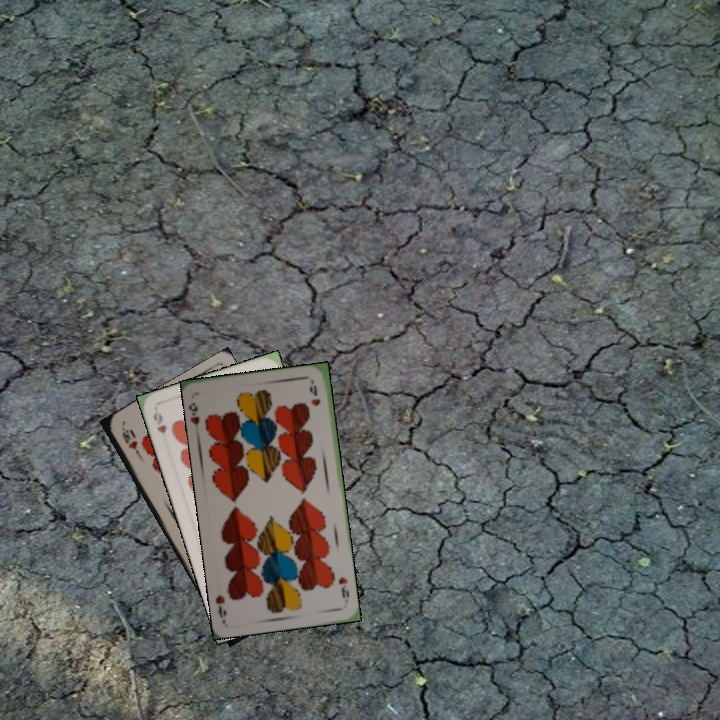H10: (118, 424, 145, 461)
H9: (149, 408, 169, 436), (334, 573, 352, 600), (186, 399, 202, 428)
